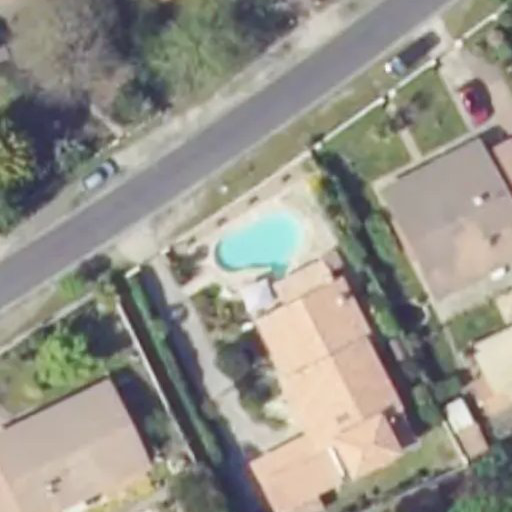pool: (206, 250, 317, 252)
